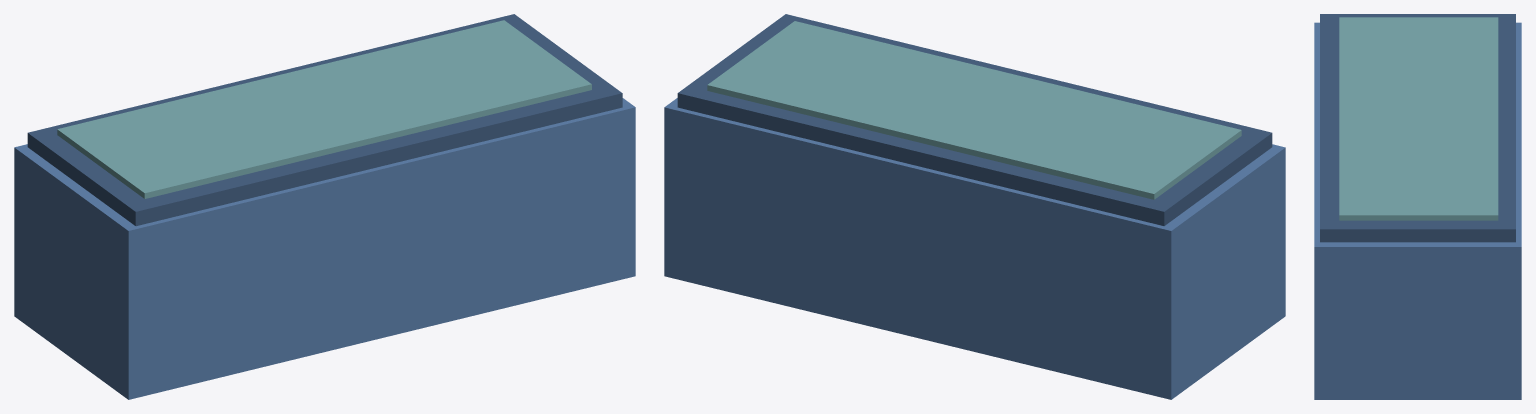
File: table_2.FBX
3 views of the same model, side by side, from view 1: azimuth 30°, elevation 25°; view 2: azimuth 150°, elevation 25°; view 3: azimuth 270°, elevation 25° (orthographic). The views are drawn at different scales.
Visible parts, largest first — view 1: table_2; view 2: table_2; view 3: table_2.
Part boxes in pixels (left/top/right/bottom): table_2: left=14, top=14, right=635, bottom=399; table_2: left=664, top=14, right=1285, bottom=399; table_2: left=1314, top=14, right=1521, bottom=399.
Bounding box in the file's own units: 1.58 × 0.5641 × 0.6176.
